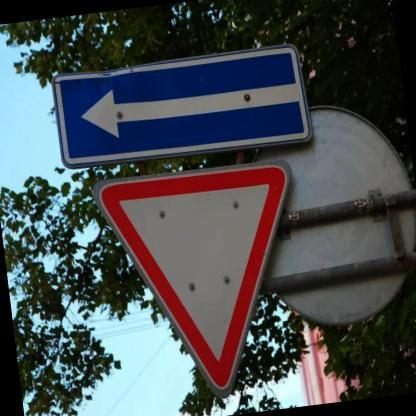road_sign: (95, 163, 290, 395), (54, 45, 309, 164)
